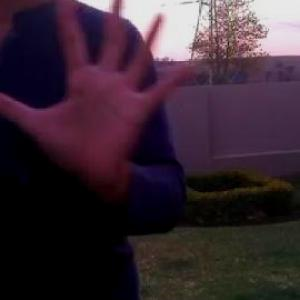follow_hand: (0, 0, 200, 195)
